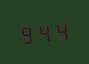four: (36, 20, 52, 43), (53, 19, 69, 41)
nine: (18, 22, 34, 44)
